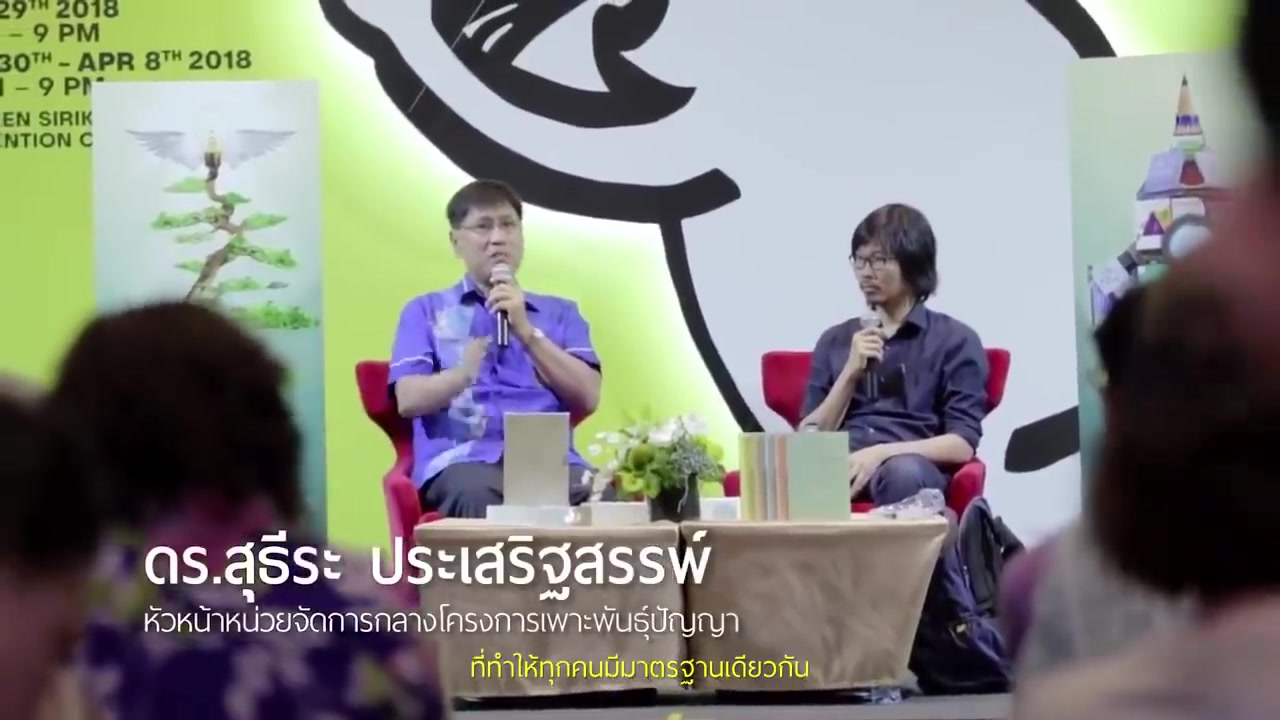text-label: (466, 646, 819, 686)
